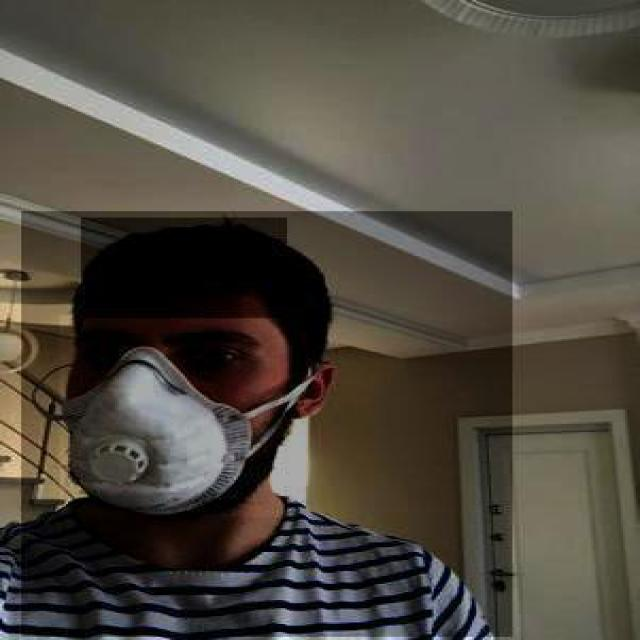face_mask: (59, 315, 285, 517)
head_nohelmet: (81, 218, 287, 318)
person: (21, 212, 515, 638)
